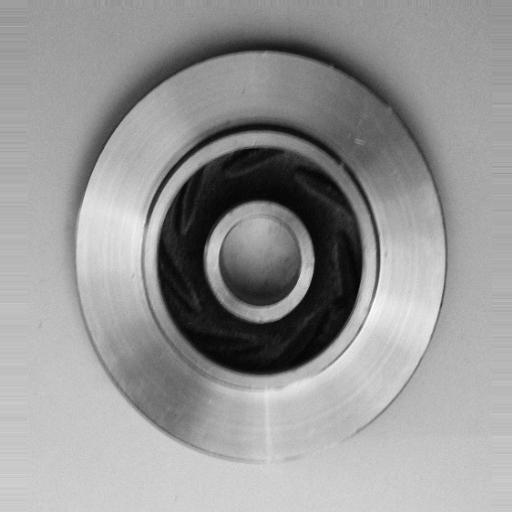unpolished_casting: (72, 41, 446, 467)
